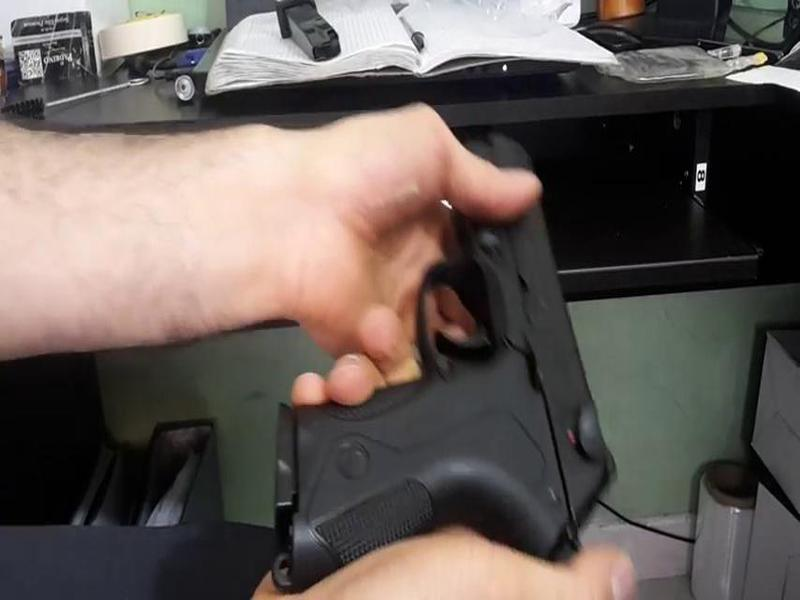Pistola: (248, 113, 617, 562)
